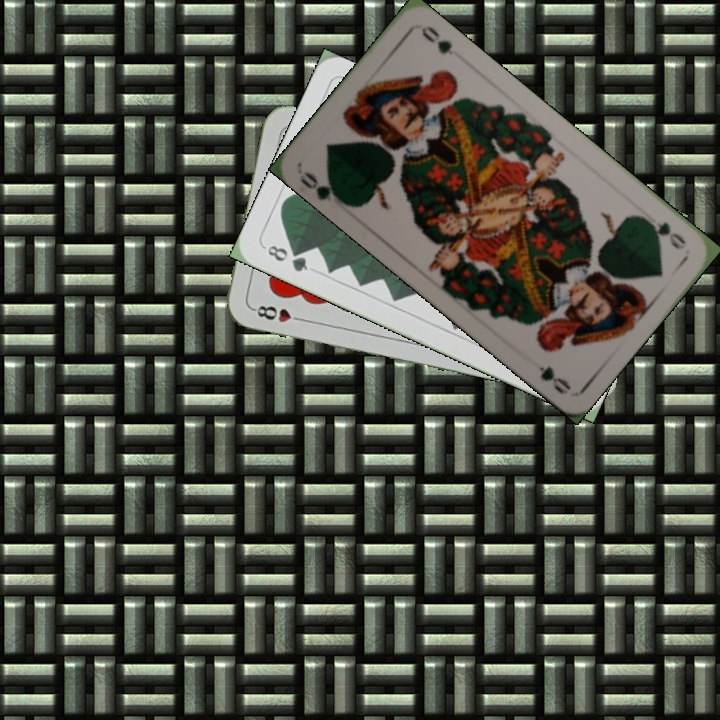G8: (261, 241, 311, 275)
GO: (296, 166, 348, 208), (639, 212, 689, 253)
H8: (249, 301, 307, 325)
